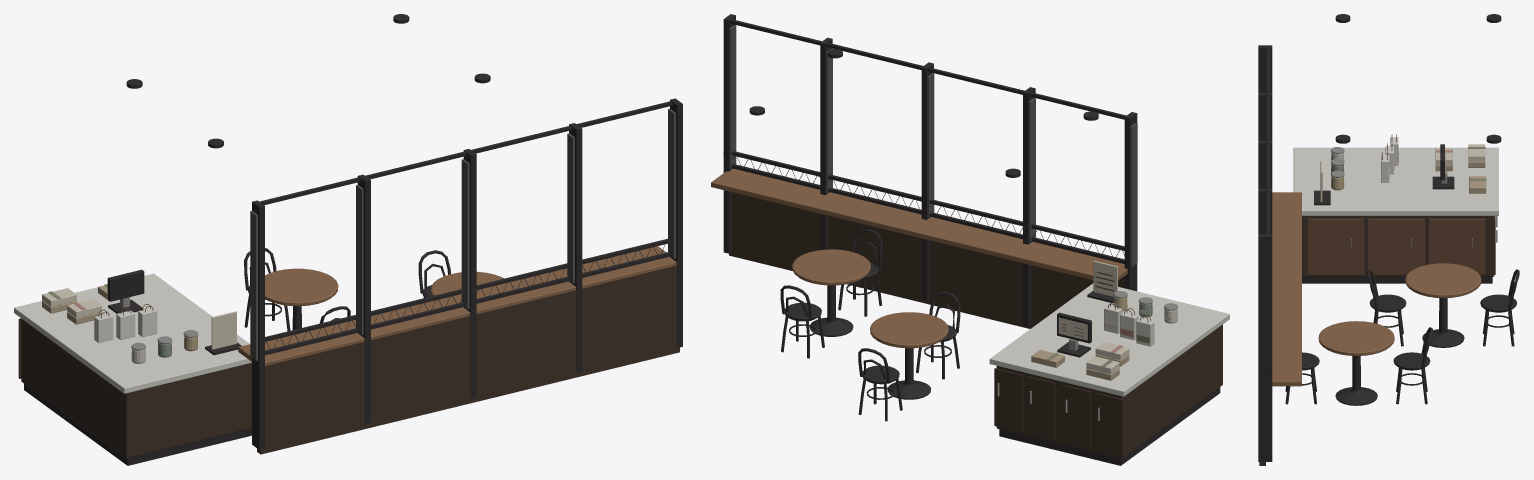
File: furniture.glb
3 views of the same model, side by side, from view 1: azimuth 30°, elevation 25°; view 2: azimuth 150°, elevation 25°; view 3: azimuth 270°, elevation 25° (orthographic). The views are drawn at different scales.
Parts seen in each view (by area): view 1: DamccotCounterAndSeating; view 2: DamccotCounterAndSeating; view 3: DamccotCounterAndSeating.
Part boxes in pixels (bbox=[...]): DamccotCounterAndSeating: bbox=[14, 14, 682, 465]; DamccotCounterAndSeating: bbox=[711, 14, 1229, 465]; DamccotCounterAndSeating: bbox=[1258, 14, 1519, 465].
Size of the model in its own units: 6.42 by 3.19 by 2.89.
